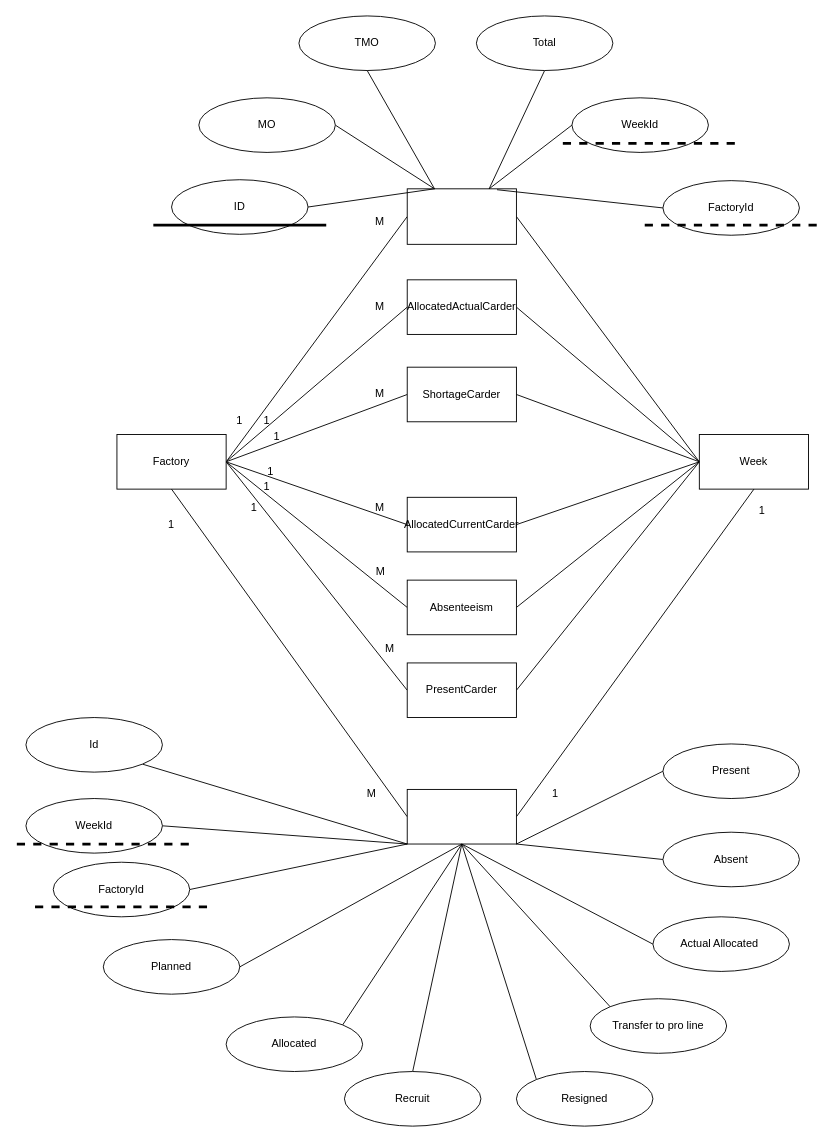
This 835x1142 diagram has some shape labels left out. The centre of each missing label's shape, as x and y in pixels:
PlannedCarder: pixel 461 216
TrainingCenter: pixel 461 816
